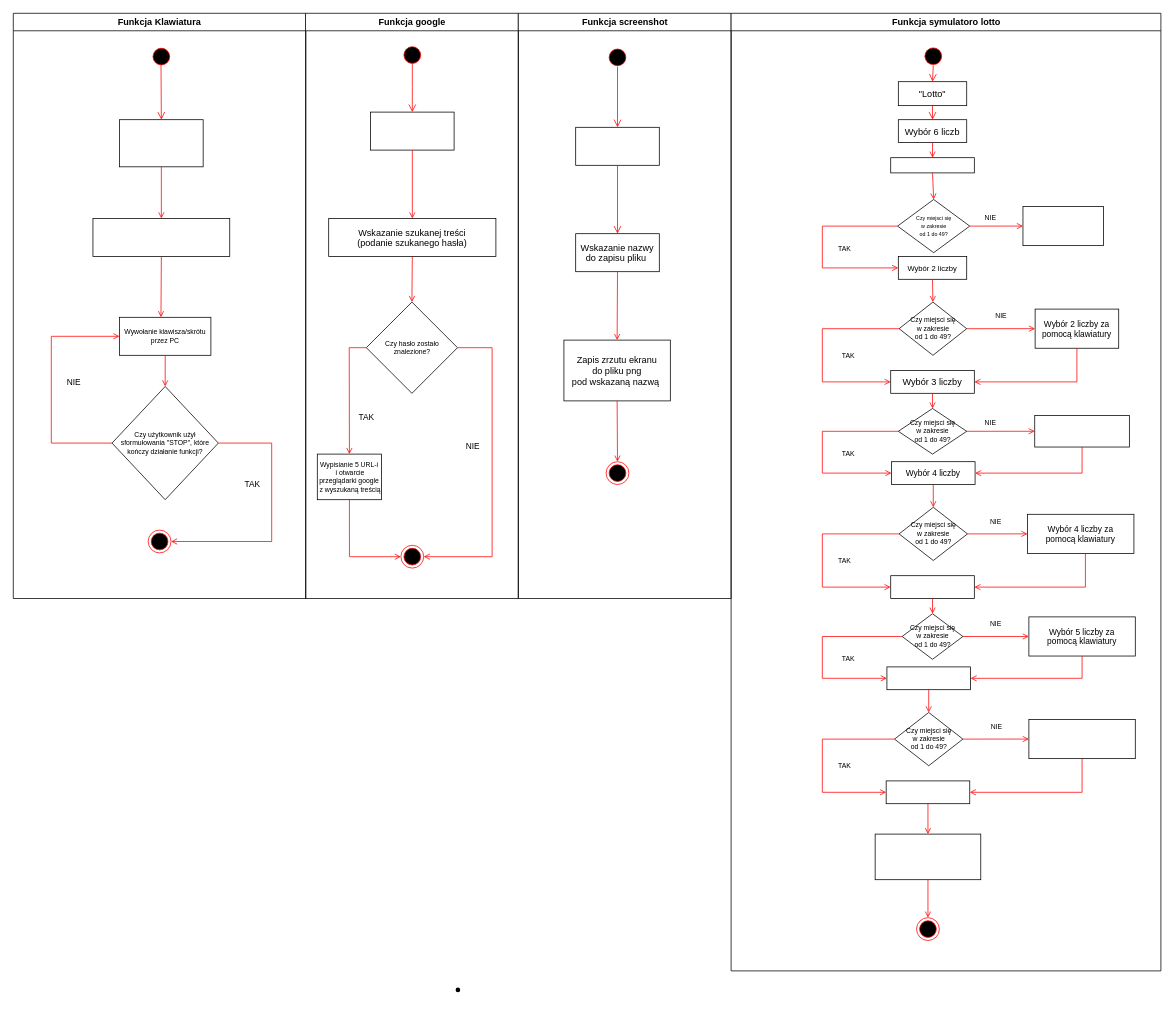
Some shapes in this 1174 by 1018 pixel diagram are drawn without their labels. The centre of each missing label's shape, as x and y in pixels:
"Google": (412,130)
"Klawiatura": (161,143)
"Screenshot": (617,146)
Odczytanie trafionych liczby: (927,856)
Porównanie liczb z wylosowanymi: (927,792)
Wybór 1 liczby: (932,165)
Wybór 1 liczby za pomocą klawiatury: (1063,226)
Wybór 3 liczby za pomocą klawiatury: (1081,431)
Wybór 5 liczby: (932,586)
Wybór 6 liczby: (928,678)
Wybór 6 liczby za pomocą klawiatury: (1081,739)
Wybór głosowy klawisza/ skrótu klawiszowego: (161,237)
